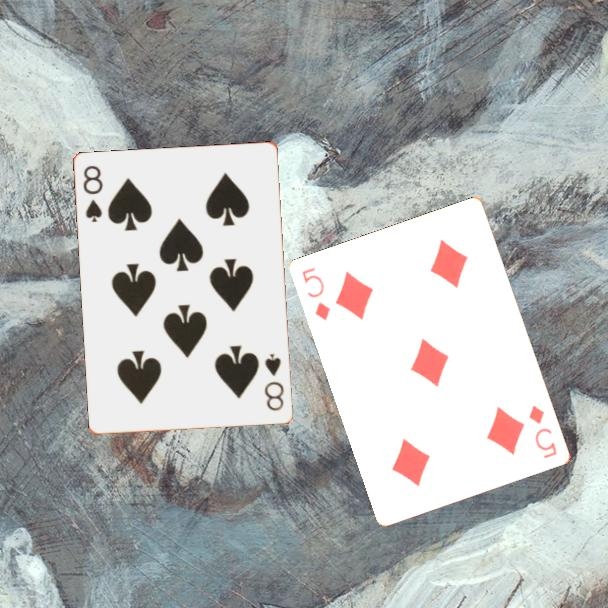d05: (299, 264, 334, 324), (526, 402, 560, 461)
s08: (261, 350, 287, 414), (80, 162, 106, 225)
